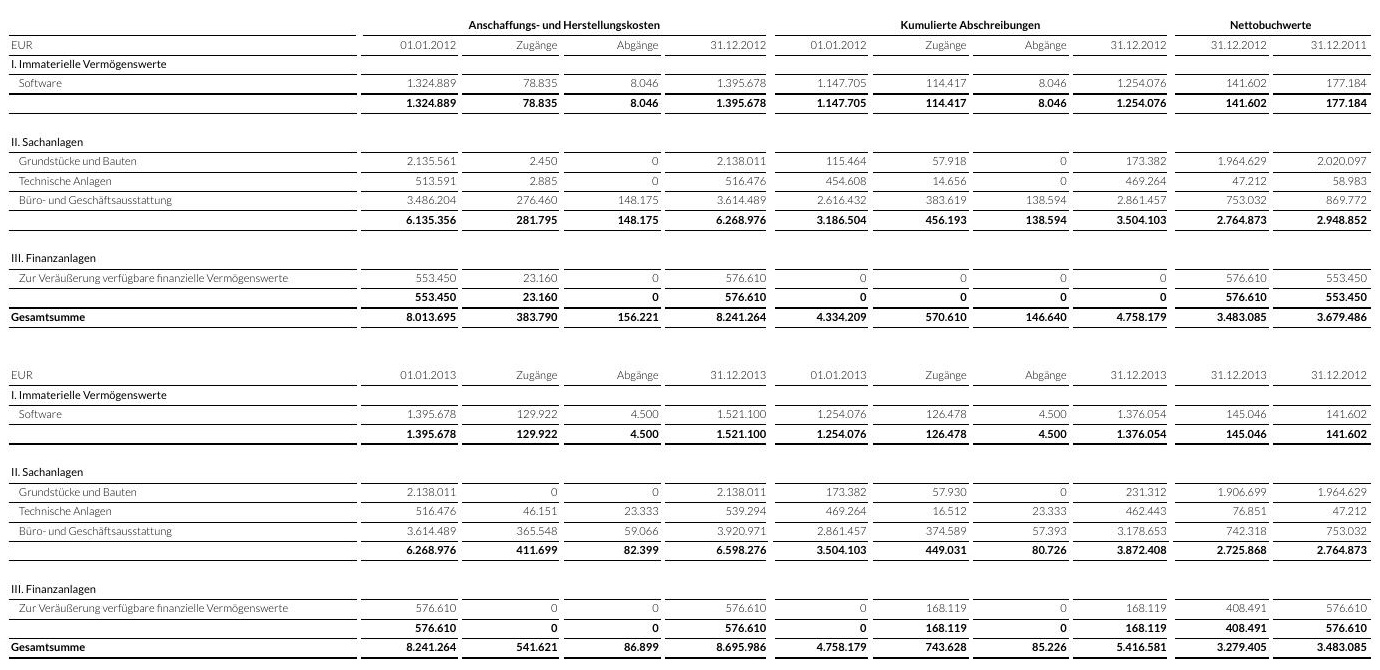table: (0, 0, 1380, 670)
